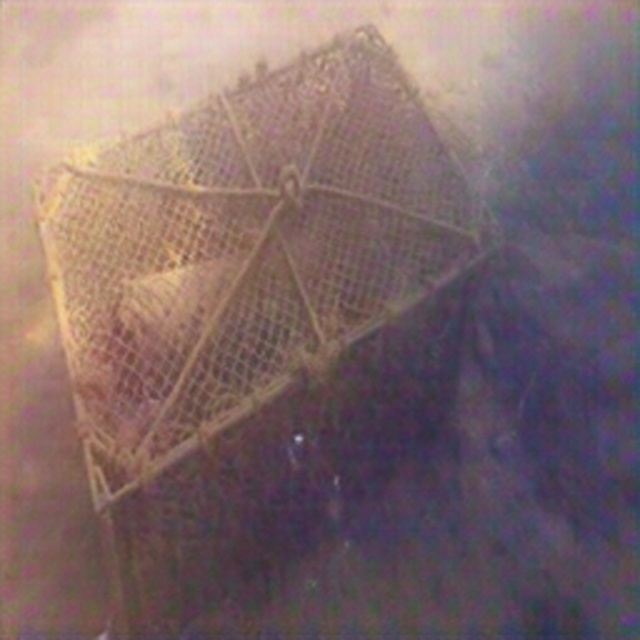mine: (31, 21, 507, 639)
